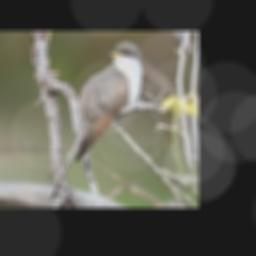Cuckoo: (49, 42, 144, 202)
